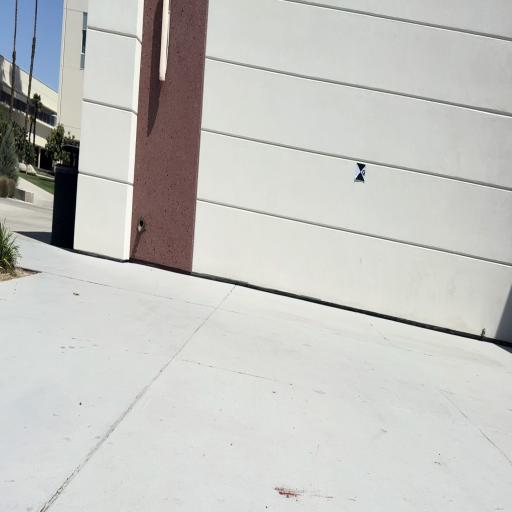target0: (355, 162, 366, 183)
